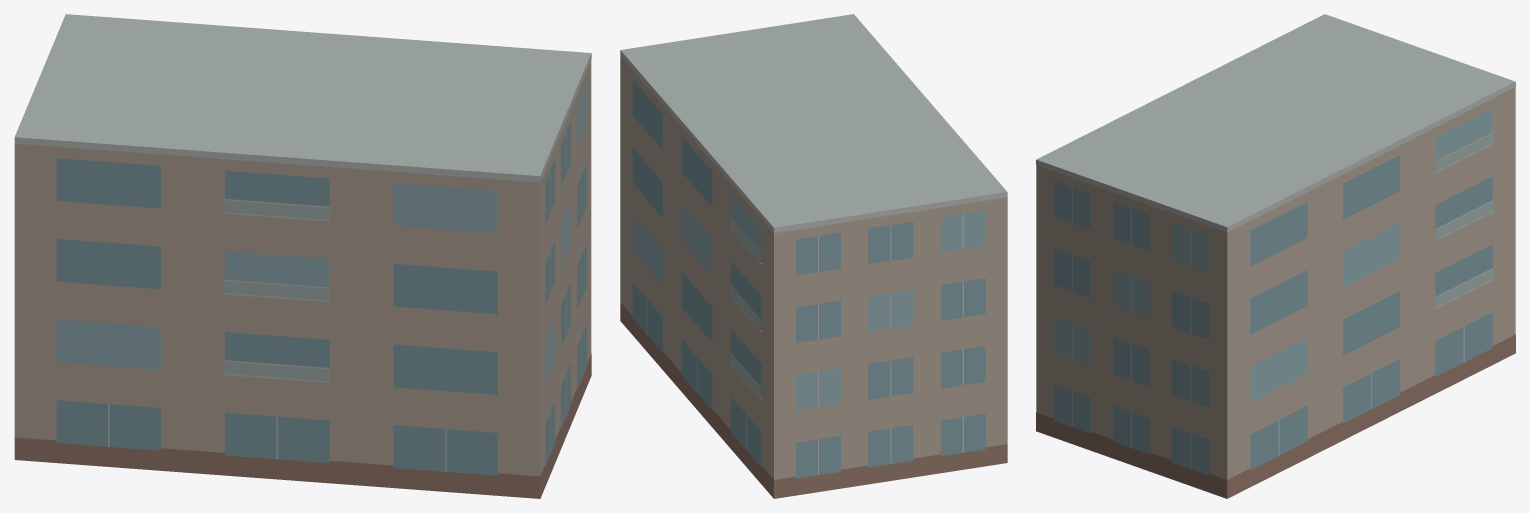
The model's file is residential-c353e4db-e0ef-4f88-80c7-ad2fd1a30d1b.glb.
The picture shows the model from 3 angles, left to right: view 1: azimuth 30°, elevation 25°; view 2: azimuth 150°, elevation 25°; view 3: azimuth 270°, elevation 25°; orthographic projection. The views are drawn at different scales.
Parts seen in each view (by area): view 1: residential-c353e4db-e0ef-4f88-80c7-ad2fd1a30d1b.tmp; view 2: residential-c353e4db-e0ef-4f88-80c7-ad2fd1a30d1b.tmp; view 3: residential-c353e4db-e0ef-4f88-80c7-ad2fd1a30d1b.tmp.
Boxes of the visible parts, x1,y1,x2,y2 form: residential-c353e4db-e0ef-4f88-80c7-ad2fd1a30d1b.tmp: [14, 14, 591, 498]; residential-c353e4db-e0ef-4f88-80c7-ad2fd1a30d1b.tmp: [620, 14, 1007, 498]; residential-c353e4db-e0ef-4f88-80c7-ad2fd1a30d1b.tmp: [1036, 14, 1515, 498].
Bounding box in the file's own units: 20.54 × 12.2 × 19.52.
